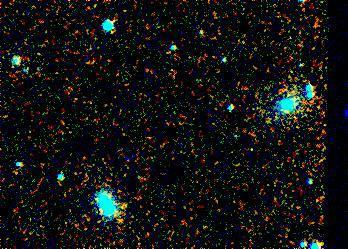star: (0, 158, 28, 188)
